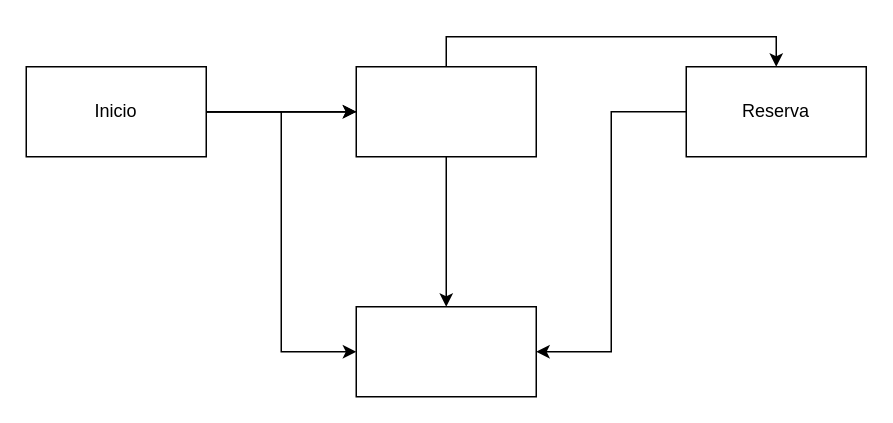
Image size: 893x423. Some labels were removed from this diagram. Each missing label, with the centre of its shape:
Contacto: [445,351]
Pedidos: [445,111]
